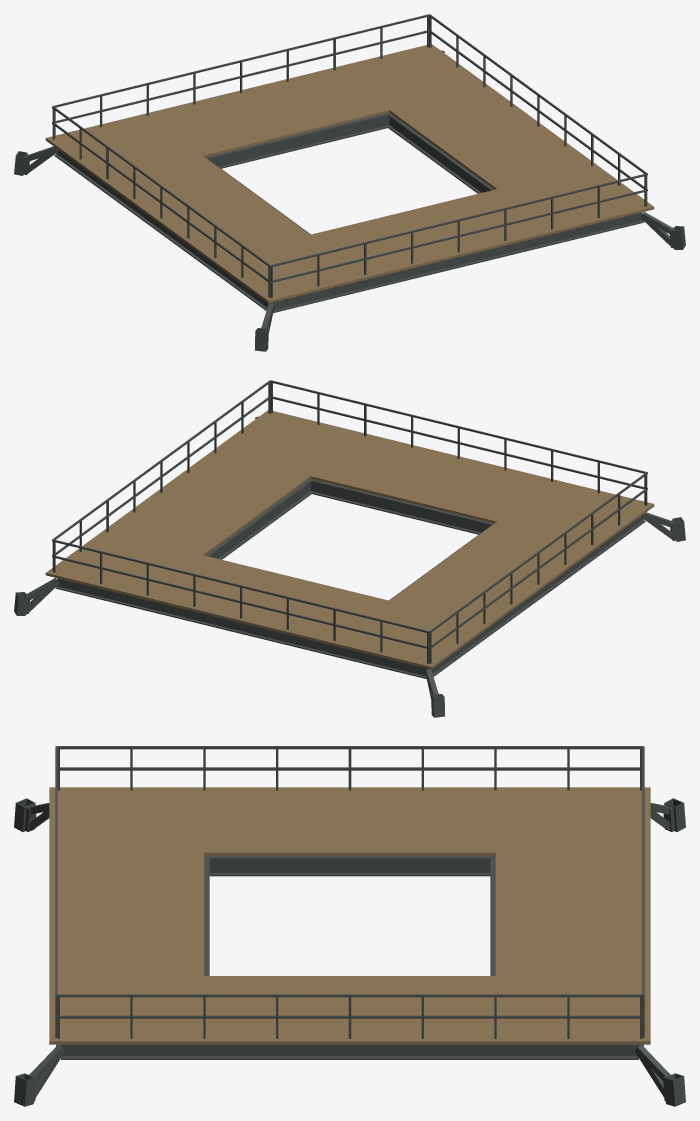
File: platform-units.glb
3 views of the same model, one above another, from view 1: azimuth 30°, elevation 25°; view 2: azimuth 150°, elevation 25°; view 3: azimuth 270°, elevation 25° (orthographic). The views are drawn at different scales.
Parts seen in each view (by area): view 1: x-girder--1-3.1-segment-1, x-girder-1-6.15-segment-1, x-girder-1-6.15-segment-2, x-girder-1-6.15-segment-0, deck-z-1-board-14-2, z-girder-1-3.1-segment-0, deck-z--1-board-14-1, deck-z-1-board-14-0, deck-z-1-board-14-1, z-girder-1-3.1-segment-1, deck-z--1-board-14-2, z-girder--1-6.15-segment-1 (+66 smaller); view 2: x-girder-1-3.1-segment-1, x-girder--1-6.15-segment-1, x-girder--1-6.15-segment-2, x-girder--1-6.15-segment-0, deck-z--1-board-00-2, z-girder-1-3.1-segment-1, deck-z-1-board-00-1, deck-z--1-board-00-0, deck-z--1-board-00-1, z-girder-1-3.1-segment-0, deck-z-1-board-00-2, z-girder--1-6.15-segment-1 (+66 smaller); view 3: z-girder-1-6.15-segment-0, z-girder-1-6.15-segment-2, z-girder-1-6.15-segment-1, z-girder--1-3.1-segment-0, z-girder--1-3.1-segment-1, deck-x--1-board-14-0, deck-x--1-board-14-1, deck-x-1-board-14-0, deck-x-1-board-14-1, deck-z-1-board-02-2, deck-z-1-board-05-2, deck-z-1-board-08-2 (+153 smaller).
Part boxes in pixels (<box>): x-girder--1-3.1-segment-1: <box>234,120,359,164</box>; x-girder-1-6.15-segment-1: <box>395,242,520,282</box>; x-girder-1-6.15-segment-2: <box>519,212,644,252</box>; x-girder-1-6.15-segment-0: <box>271,272,396,312</box>; deck-z-1-board-14-2: <box>506,204,654,244</box>; z-girder-1-3.1-segment-0: <box>387,113,442,165</box>; deck-z--1-board-14-1: <box>220,118,344,152</box>; deck-z-1-board-14-0: <box>264,269,388,303</box>; deck-z-1-board-14-1: <box>385,240,509,273</box>; z-girder-1-3.1-segment-1: <box>440,152,494,193</box>; deck-z--1-board-14-2: <box>341,83,488,123</box>; z-girder--1-6.15-segment-1: <box>125,201,199,259</box>; x-girder-1-3.1-segment-1: <box>340,486,465,530</box>; x-girder--1-6.15-segment-1: <box>179,608,304,648</box>; x-girder--1-6.15-segment-2: <box>55,578,180,618</box>; x-girder--1-6.15-segment-0: <box>303,638,428,678</box>; deck-z--1-board-00-2: <box>45,570,193,610</box>; z-girder-1-3.1-segment-1: <box>257,479,311,531</box>; deck-z-1-board-00-1: <box>355,484,479,518</box>; deck-z--1-board-00-0: <box>311,635,435,669</box>; deck-z--1-board-00-1: <box>190,606,314,639</box>; z-girder-1-3.1-segment-0: <box>205,518,259,559</box>; deck-z-1-board-00-2: <box>211,449,358,489</box>; z-girder--1-6.15-segment-1: <box>500,567,574,625</box>; z-girder-1-6.15-segment-0: <box>446,1044,638,1059</box>; z-girder-1-6.15-segment-2: <box>61,1044,253,1059</box>; z-girder-1-6.15-segment-1: <box>253,1044,446,1059</box>; z-girder--1-3.1-segment-0: <box>350,856,495,876</box>; z-girder--1-3.1-segment-1: <box>204,856,349,876</box>; deck-x--1-board-14-0: <box>350,848,495,856</box>; deck-x--1-board-14-1: <box>204,848,349,856</box>; deck-x-1-board-14-0: <box>350,1037,495,1044</box>; deck-x-1-board-14-1: <box>204,1037,349,1044</box>; deck-z-1-board-02-2: <box>173,946,183,1044</box>; deck-z-1-board-05-2: <box>142,946,152,1044</box>; deck-z-1-board-08-2: <box>111,946,121,1044</box>.
Size of the model in its own units: 14.31 by 2.24 by 14.31.
